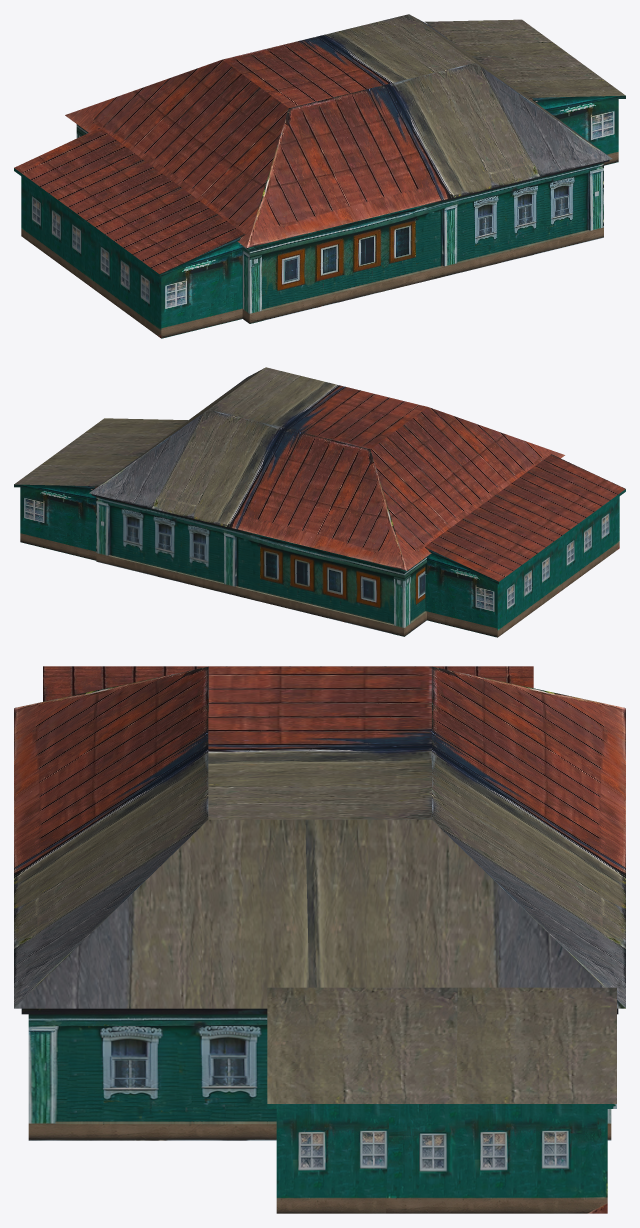
Rendered from house3.glb.
3 views of the same model, one above another, from view 1: azimuth 30°, elevation 25°; view 2: azimuth 150°, elevation 25°; view 3: azimuth 270°, elevation 25° (orthographic). The views are drawn at different scales.
Visible parts, largest first — view 1: 1:1:2D_Dom5_0; view 2: 1:1:2D_Dom5_0; view 3: 1:1:2D_Dom5_0.
Boxes of the visible parts, <box> form: 1:1:2D_Dom5_0: <box>14,14,625,338</box>; 1:1:2D_Dom5_0: <box>14,367,625,637</box>; 1:1:2D_Dom5_0: <box>14,666,625,1213</box>.
Bounding box in the file's own units: 22.09 × 6.11 × 13.06.
Materials: 1 (1 with a texture image).
